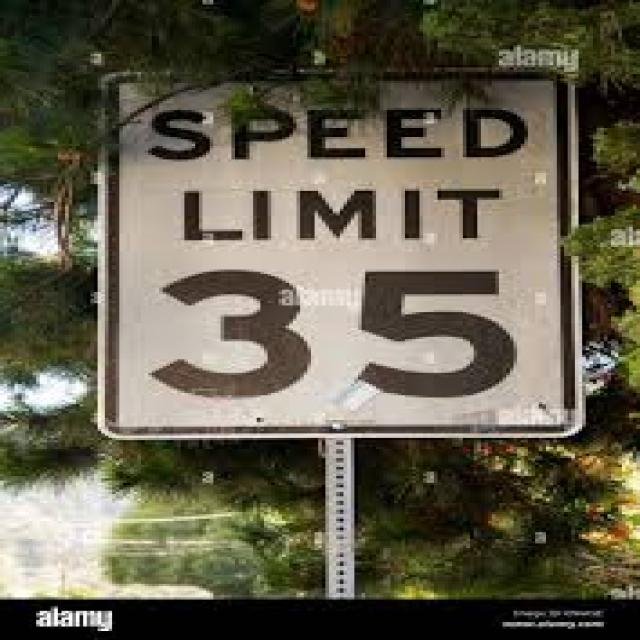speedLimit35: (109, 81, 582, 433)
